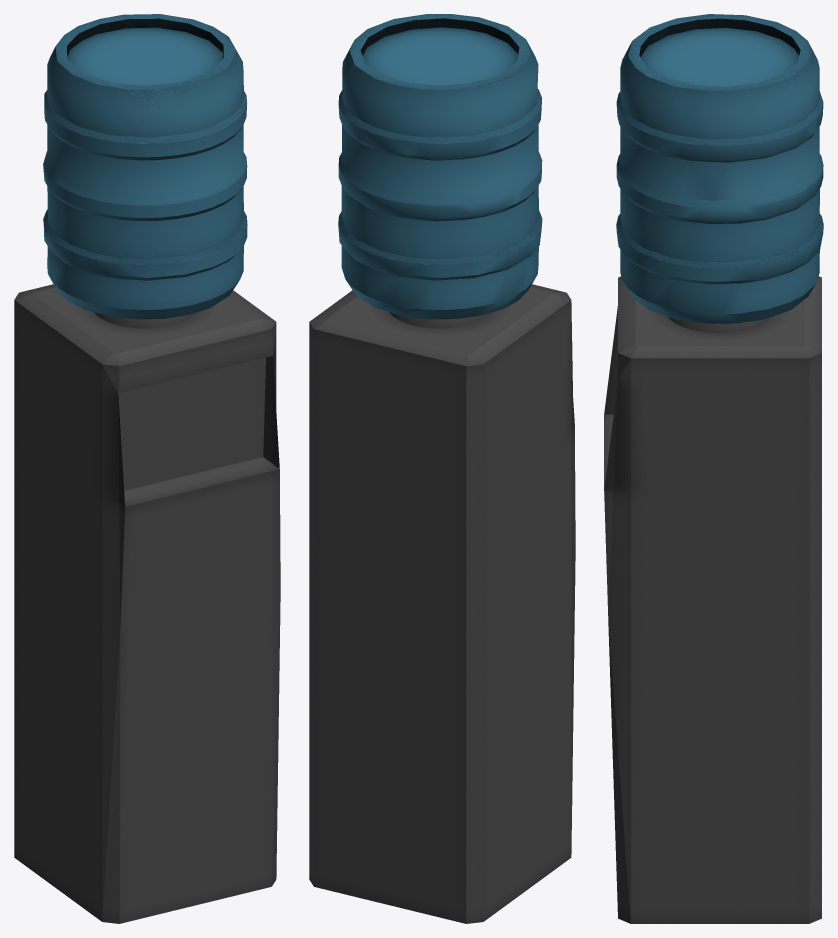
Rendered from water machine v1.fbx.
The picture shows the model from 3 angles, left to right: view 1: azimuth 30°, elevation 25°; view 2: azimuth 150°, elevation 25°; view 3: azimuth 270°, elevation 25°; orthographic projection.
Visible parts, largest first — view 1: Cube.002, Cylinder.018, Cylinder.020; view 2: Cube.002, Cylinder.018, Cylinder.020; view 3: Cube.002, Cylinder.018, Cylinder.020.
Boxes of the visible parts, bbox=[...] form: Cube.002: bbox=[14, 284, 280, 923]; Cylinder.018: bbox=[43, 14, 247, 319]; Cylinder.020: bbox=[94, 312, 195, 328]; Cube.002: bbox=[309, 284, 575, 923]; Cylinder.018: bbox=[338, 14, 542, 319]; Cylinder.020: bbox=[389, 312, 491, 328]; Cube.002: bbox=[604, 276, 821, 923]; Cylinder.018: bbox=[616, 14, 823, 323]; Cylinder.020: bbox=[668, 317, 771, 333].
Bounding box in the file's own units: 120 × 529 × 127.
Materials: 2 (2 with a texture image).
